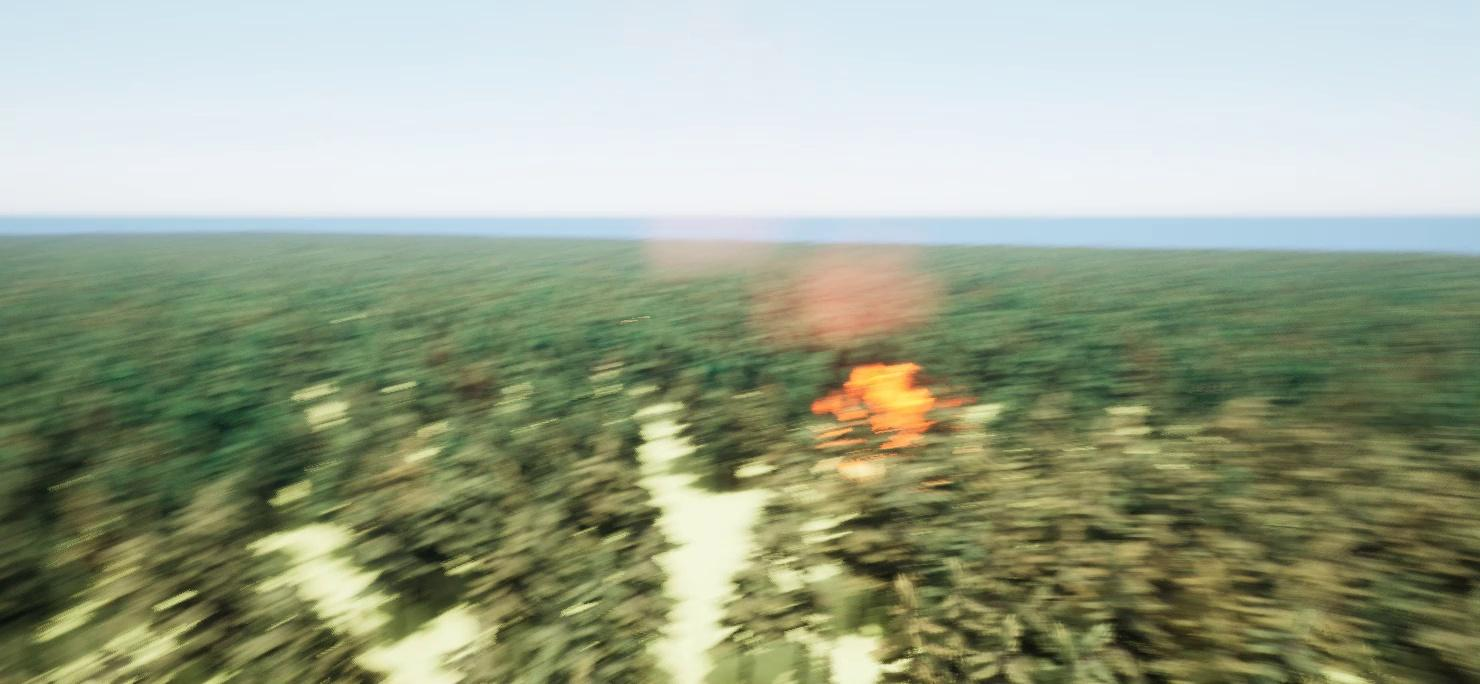fire: (810, 362, 966, 444)
smoke: (633, 205, 954, 352)
